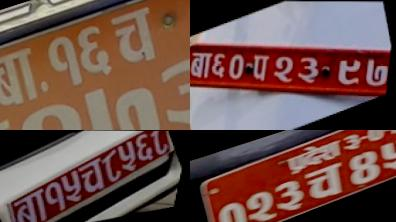0: (0, 46, 49, 112), (212, 196, 254, 222), (224, 52, 249, 81), (364, 130, 386, 142)
1: (13, 94, 106, 130), (38, 180, 79, 213)
2: (240, 185, 284, 222), (270, 52, 298, 85)
3: (41, 31, 92, 92), (271, 175, 313, 216), (296, 53, 322, 85), (340, 131, 364, 152)
4: (71, 22, 120, 81), (344, 146, 388, 185)
5: (56, 170, 95, 202), (109, 141, 148, 172), (375, 133, 396, 174)
6: (127, 132, 162, 162), (210, 51, 230, 78)
7: (78, 69, 177, 130), (360, 51, 392, 90)
8: (93, 148, 134, 182), (142, 131, 176, 153)
9: (105, 5, 166, 71), (334, 54, 366, 89)
ba: (150, 45, 190, 130), (7, 188, 63, 222), (190, 44, 220, 85)
cha: (300, 159, 353, 205), (71, 159, 116, 193)
pa: (248, 48, 277, 86)
